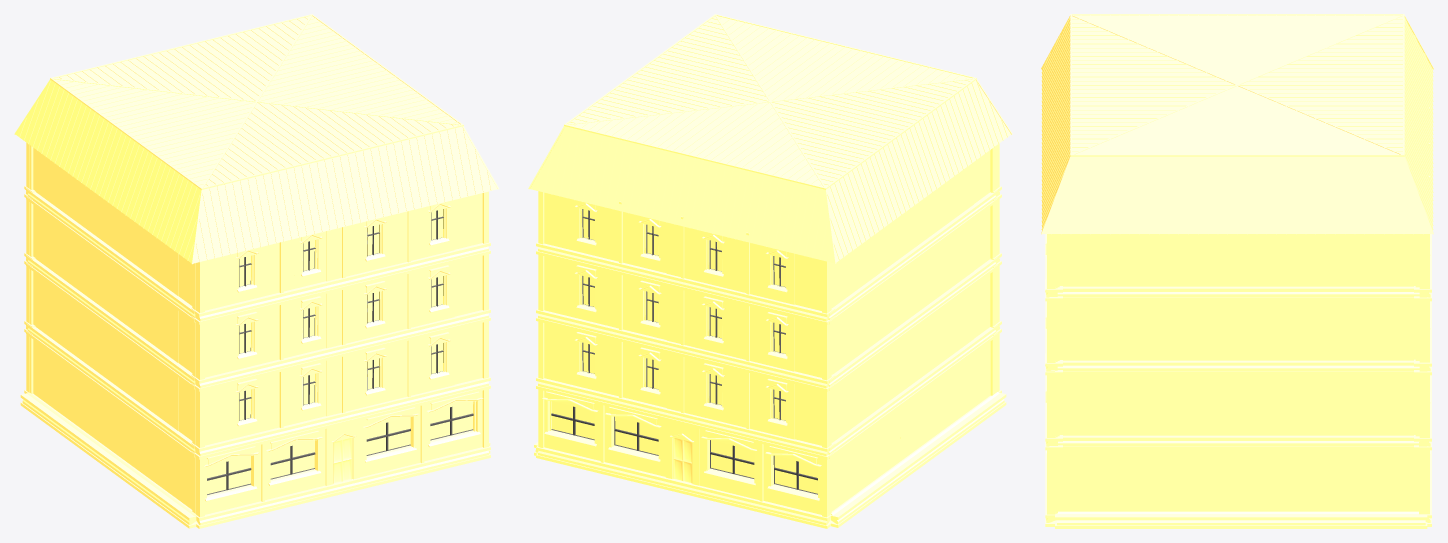
The model's file is Buiding 03.fbx.
3 renders of one model, left to right at view 1: azimuth 30°, elevation 25°; view 2: azimuth 150°, elevation 25°; view 3: azimuth 270°, elevation 25°, orthographic. The views are drawn at different scales.
Visible parts, largest first — view 1: TinRoof, Cube__1__15, wall_01__1__1, wall_01__10__1, wall_01__3__1, wall_01__2__1, wall_01__4__1, wall_01__6__1, wall_01__11__1, wall_01__5__1, wall_01__13__1, wall_01__14__1 (+78 smaller); view 2: TinRoof, Cube__1__15, wall_01__3_, wall_01__10_, wall_01__6_, wall_01__11_, wall_01__2_, wall_01__1_, Cube__1__1, wall_01__13_, wall_01__9_, wall_01__12_ (+78 smaller); view 3: TinRoof, wall_01__30_, wall_01__35_, wall_01__31_, Cube__1__11, wall_01__19_, wall_01__25_, wall_01__2__2, wall_01__10__2, wall_01__3__2, wall_01__29_, wall_01__32_ (+46 smaller).
Part boxes in pixels (left/top/right/bottom): TinRoof: left=14, top=14, right=499, bottom=264; Cube__1__15: left=20, top=393, right=196, bottom=520; wall_01__1__1: left=195, top=382, right=230, bottom=446; wall_01__10__1: left=326, top=353, right=358, bottom=416; wall_01__3__1: left=390, top=337, right=422, bottom=400; wall_01__2__1: left=262, top=368, right=294, bottom=431; wall_01__4__1: left=195, top=315, right=230, bottom=383; wall_01__6__1: left=390, top=270, right=422, bottom=332; wall_01__11__1: left=326, top=286, right=358, bottom=348; wall_01__5__1: left=262, top=302, right=294, bottom=363; wall_01__13__1: left=454, top=322, right=482, bottom=384; wall_01__14__1: left=454, top=256, right=482, bottom=316; TinRoof: left=528, top=14, right=1012, bottom=263; Cube__1__15: left=830, top=392, right=1006, bottom=519; wall_01__3_: left=730, top=368, right=762, bottom=431; wall_01__10_: left=666, top=353, right=698, bottom=415; wall_01__6_: left=730, top=301, right=762, bottom=363; wall_01__11_: left=666, top=286, right=698, bottom=347; wall_01__2_: left=603, top=337, right=634, bottom=400; wall_01__1_: left=544, top=323, right=571, bottom=384; Cube__1__1: left=536, top=446, right=832, bottom=520; wall_01__13_: left=794, top=384, right=821, bottom=445; wall_01__9_: left=730, top=238, right=762, bottom=296; wall_01__12_: left=666, top=222, right=698, bottom=281; TinRoof: left=1041, top=14, right=1433, bottom=234; wall_01__30_: left=1134, top=449, right=1175, bottom=511; wall_01__35_: left=1338, top=449, right=1379, bottom=511; wall_01__31_: left=1175, top=449, right=1216, bottom=511; Cube__1__11: left=1055, top=513, right=1427, bottom=520; wall_01__19_: left=1175, top=374, right=1216, bottom=435; wall_01__25_: left=1338, top=374, right=1379, bottom=435; wall_01__2__2: left=1134, top=374, right=1175, bottom=435; wall_01__10__2: left=1216, top=374, right=1257, bottom=435; wall_01__3__2: left=1297, top=374, right=1338, bottom=435; wall_01__29_: left=1094, top=449, right=1134, bottom=511; wall_01__32_: left=1216, top=449, right=1256, bottom=511.
Bounding box in the file's own units: 1926 × 1964 × 1926.
